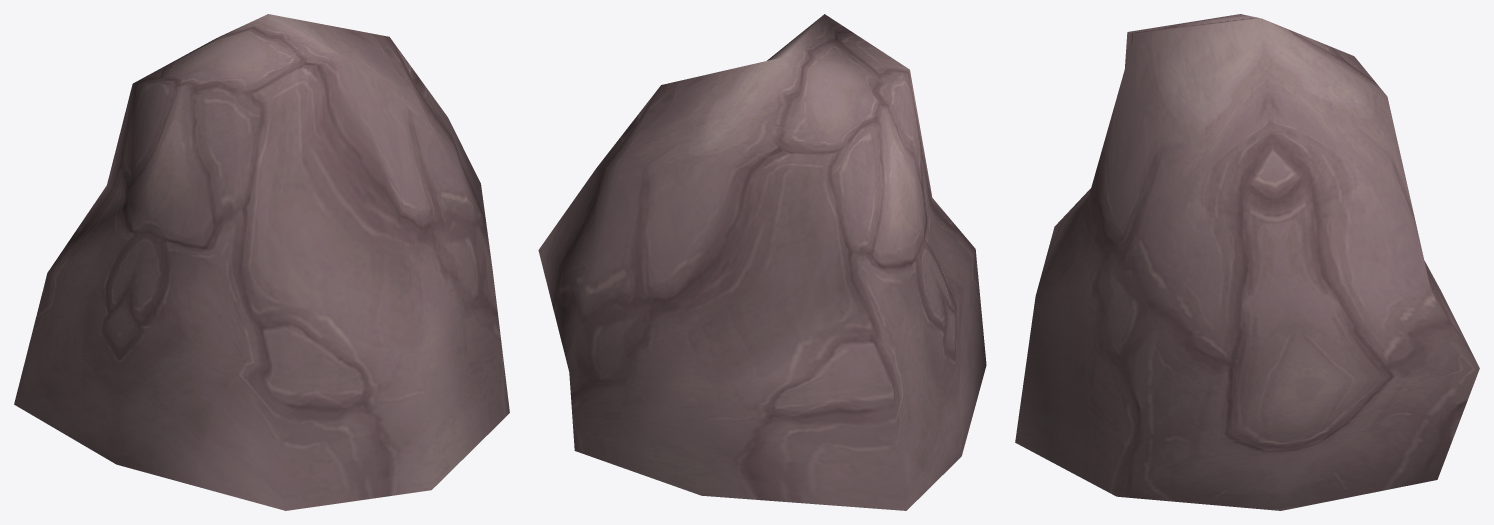
The model's file is rock_02.fbx.
3 views of the same model, side by side, from view 1: azimuth 30°, elevation 25°; view 2: azimuth 150°, elevation 25°; view 3: azimuth 270°, elevation 25° (orthographic). The views are drawn at different scales.
Parts seen in each view (by area): view 1: rock_02; view 2: rock_02; view 3: rock_02.
Part boxes in pixels (x1,y1,x2,y2): rock_02: [14, 14, 509, 510]; rock_02: [538, 14, 986, 510]; rock_02: [1015, 14, 1479, 510].
Bounding box in the file's own units: 2.8 × 2.59 × 2.59.
